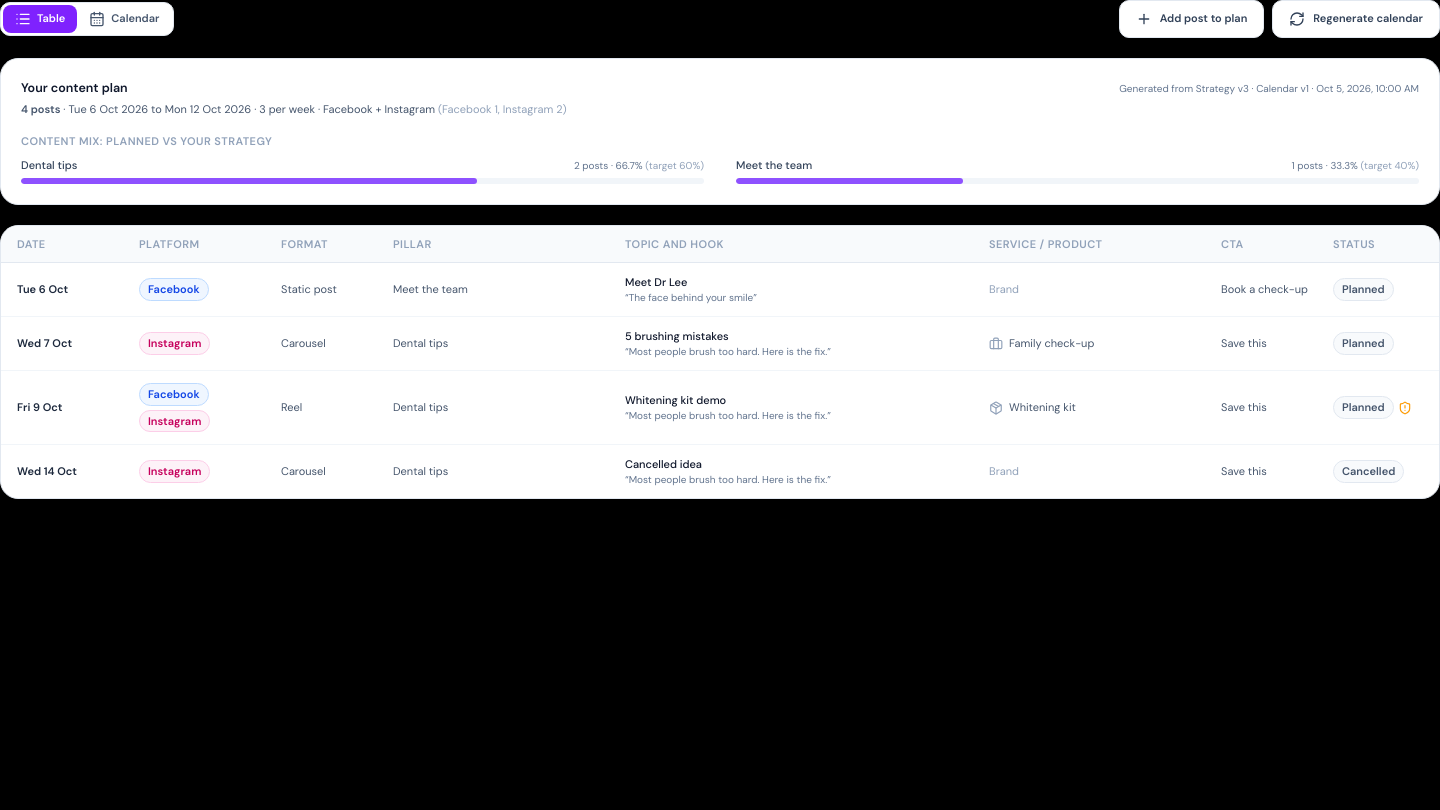
it: Content plan — a ready calendar › opens a centered MODAL (not a drawer) with the post's planning fields, its status and its plan provenance
Step 1. Click the button with test id "plan-row-i3" → x=720, y=408, box [1,371,1439,444]
(page scrolled)
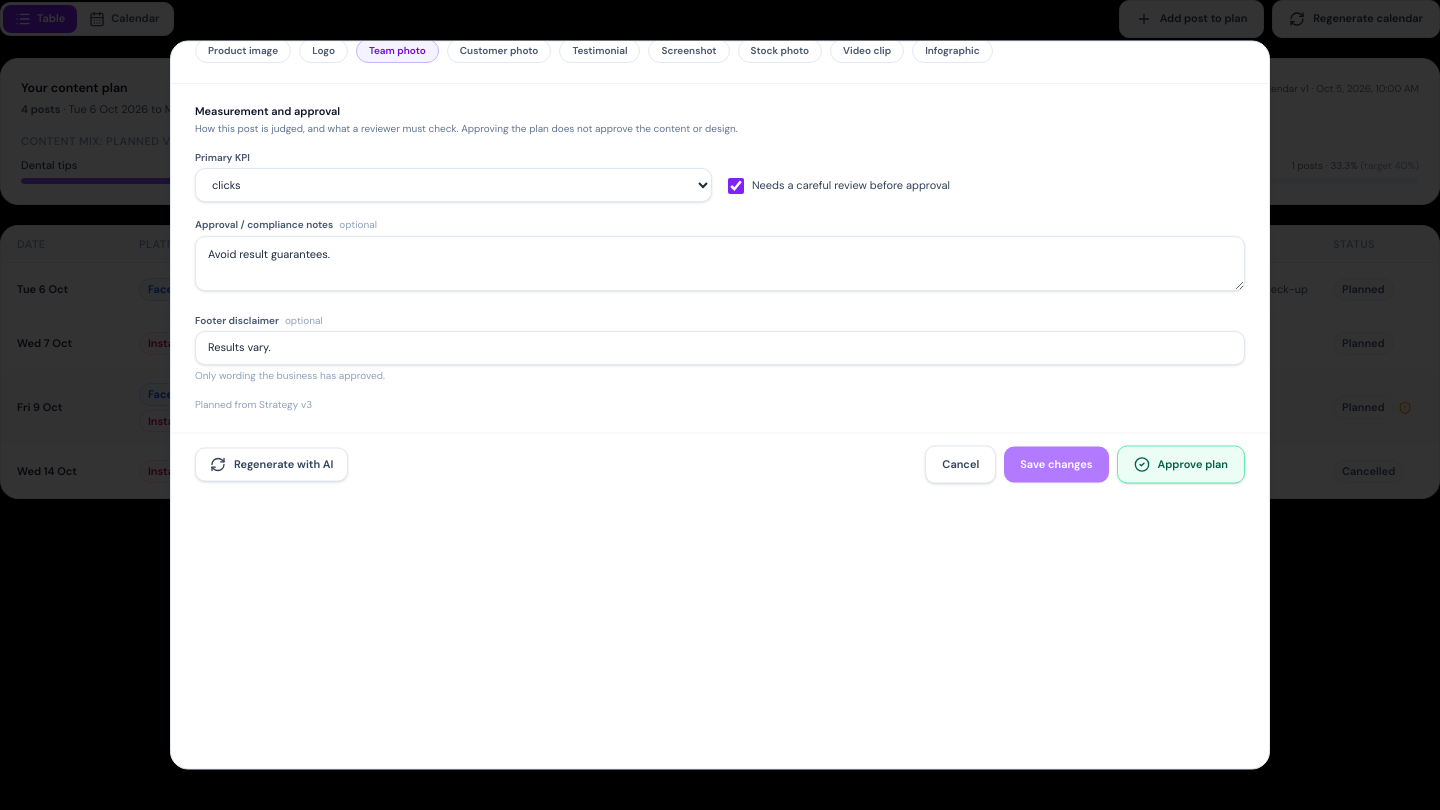
Result: the text with test id "item-provenance" reads "Planned from Strategy v3" at [195,399,312,412]
